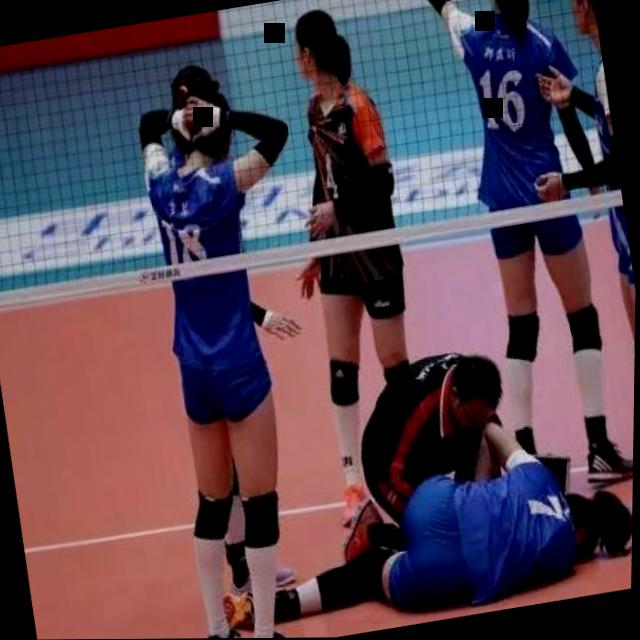Fall-Detected: (168, 415, 635, 639)
